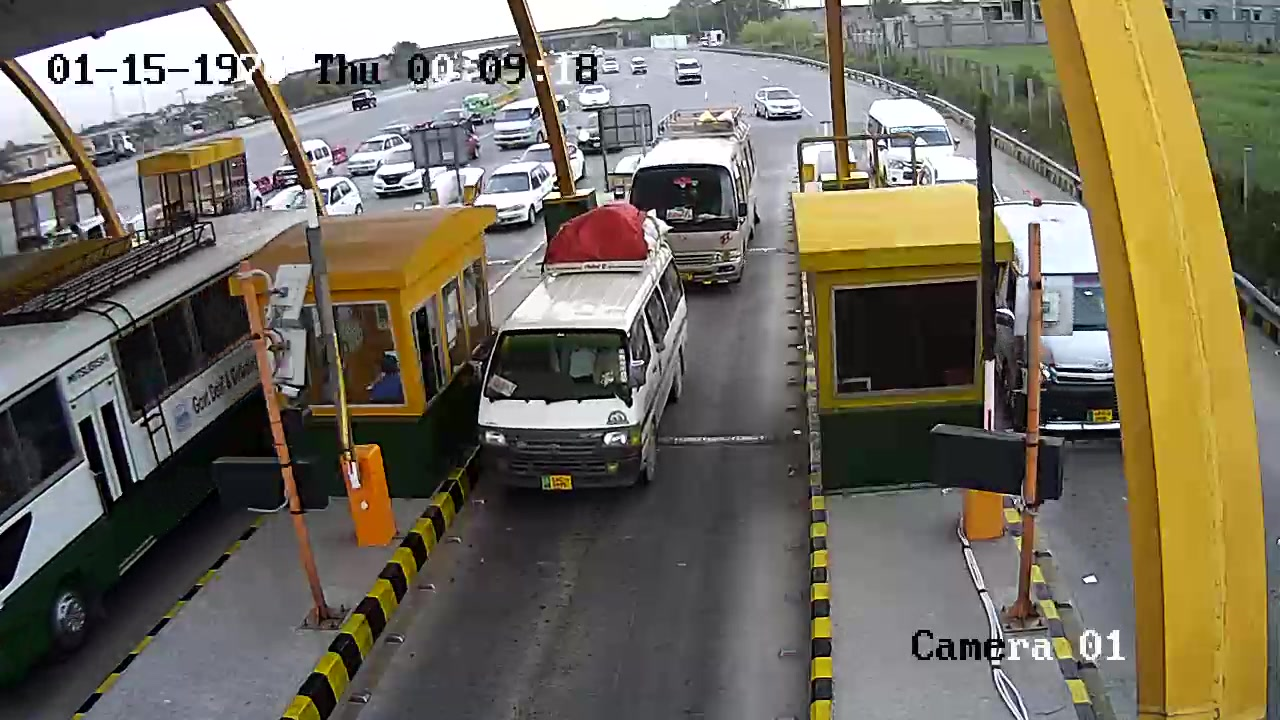F3: (470, 204, 690, 504)
